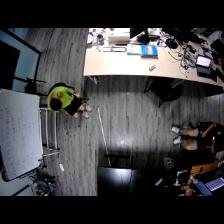normal: (168, 118, 224, 160), (47, 83, 91, 119)
